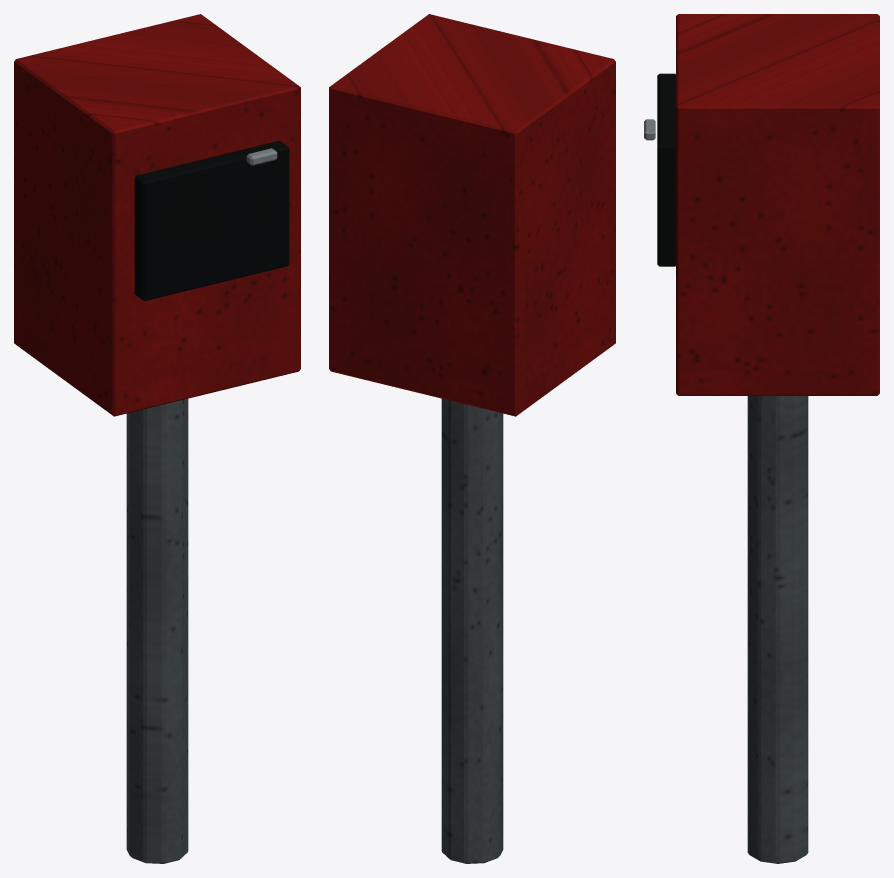
The model's file is PROP-AB95405B1FB3_lod1.glb.
The picture shows the model from 3 angles, left to right: view 1: azimuth 30°, elevation 25°; view 2: azimuth 150°, elevation 25°; view 3: azimuth 270°, elevation 25°; orthographic projection.
Parts seen in each view (by area): view 1: cabinet.003, fixture_post.003, recessed_front.003; view 2: cabinet.003, fixture_post.003; view 3: cabinet.003, fixture_post.003, recessed_front.003.
Part boxes in pixels (x1,y1,x2,y2): cabinet.003: (14, 14, 300, 416); fixture_post.003: (126, 398, 188, 863); recessed_front.003: (134, 140, 289, 301); cabinet.003: (329, 14, 615, 416); fixture_post.003: (441, 398, 503, 863); cabinet.003: (676, 14, 879, 395); fixture_post.003: (747, 396, 808, 863); recessed_front.003: (657, 73, 675, 266).
Bounding box in the file's own units: 0.38 × 1.5 × 0.405.
4 materials, 4 textured.
